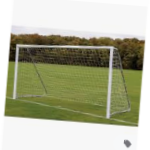goals: (12, 43, 131, 119)
